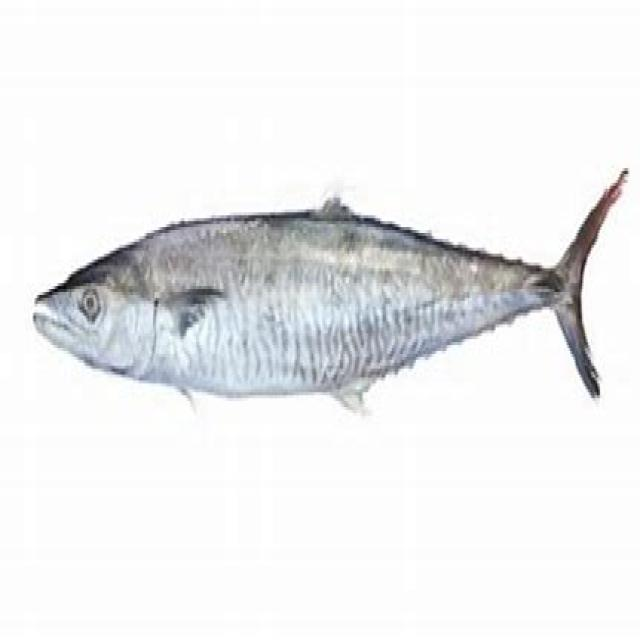seer: (31, 201, 542, 416), (504, 250, 601, 403)
